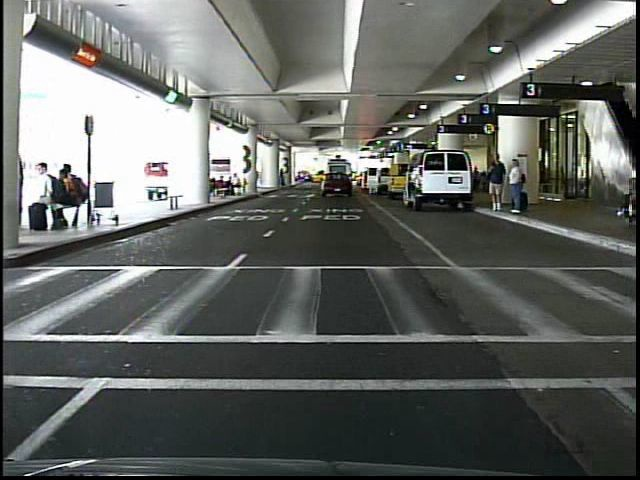person: (485, 149, 507, 217), (506, 155, 528, 220), (325, 170, 335, 194)
